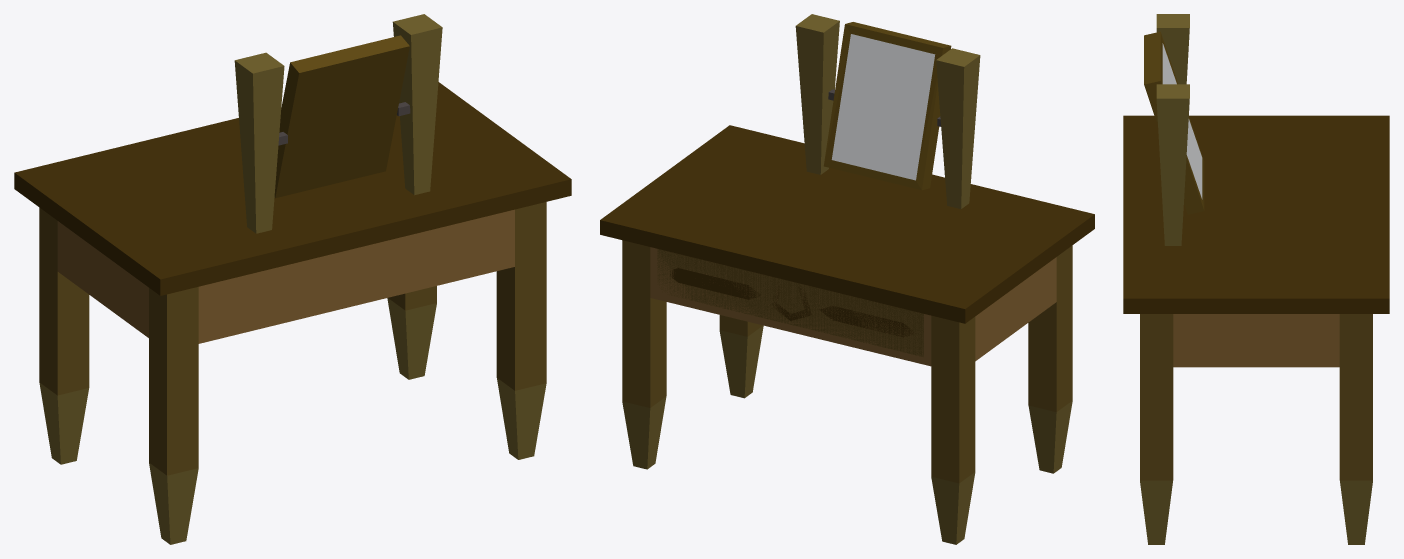
File: obj_dresser_0.obj
3 renders of one model, left to right at view 1: azimuth 30°, elevation 25°; view 2: azimuth 150°, elevation 25°; view 3: azimuth 270°, elevation 25°, orthographic. The views are drawn at different scales.
Size of the model in its own units: 1.62 by 1.69 by 1.
